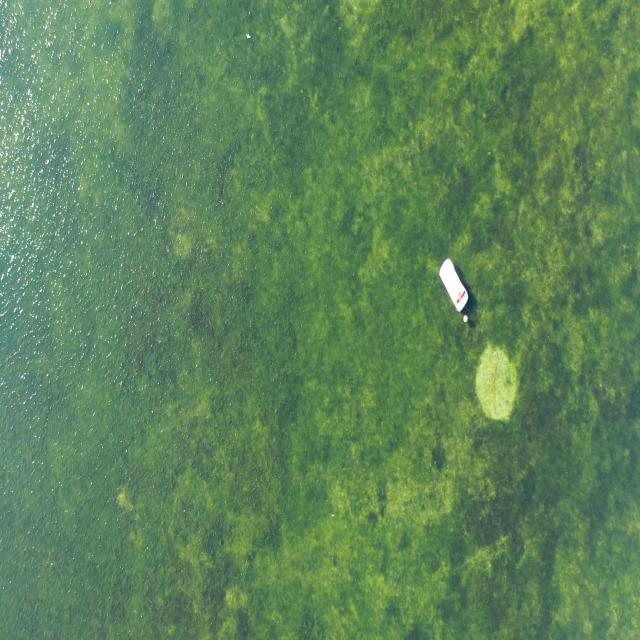boat: (437, 256, 469, 314)
bouy: (462, 313, 468, 323)
